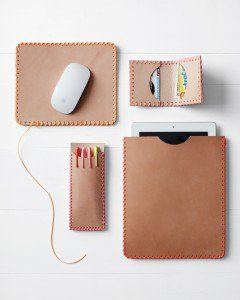cuero: (17, 42, 226, 260)
